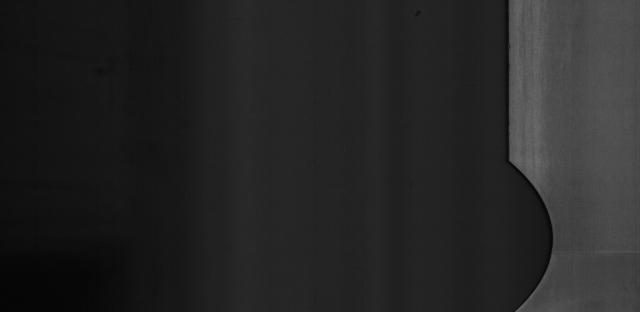welding_line: (546, 240, 640, 262)
